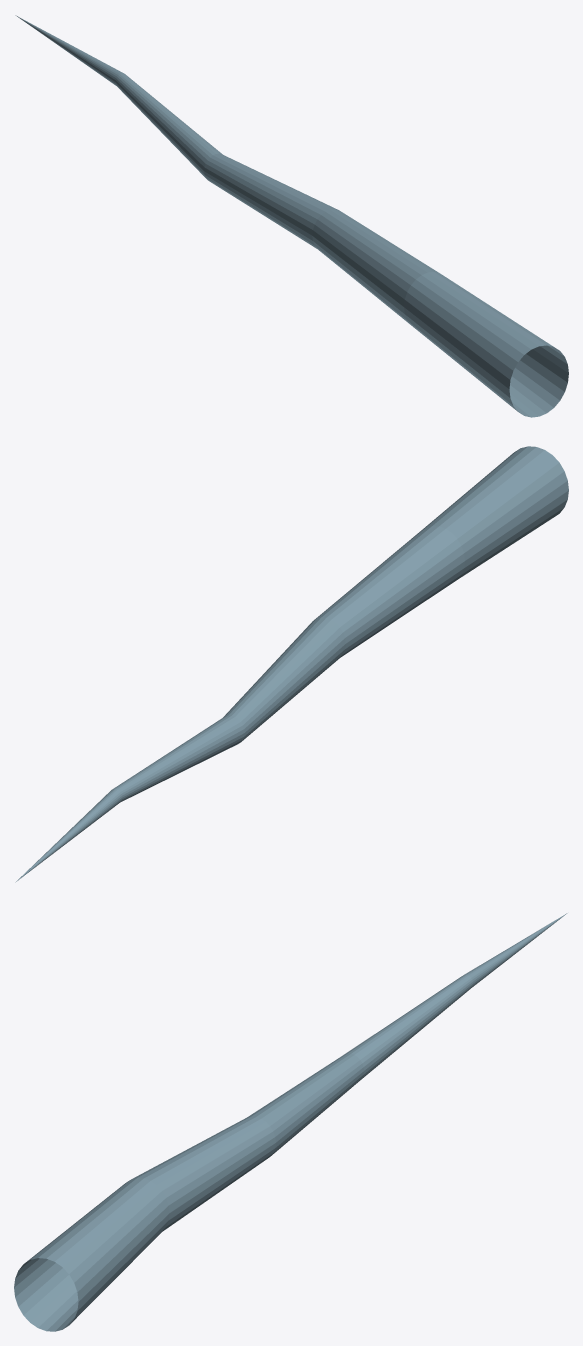
File: ICELANCE.OBJ
The picture shows the model from 3 angles, top to bottom: view 1: azimuth 30°, elevation 25°; view 2: azimuth 150°, elevation 25°; view 3: azimuth 330°, elevation 25°; orthographic projection. The views are drawn at different scales.
Parts seen in each view (by area): view 1: ICELANCE; view 2: ICELANCE; view 3: ICELANCE.
Part boxes in pixels (bbox=[...]): ICELANCE: bbox=[15, 15, 568, 417]; ICELANCE: bbox=[15, 446, 568, 882]; ICELANCE: bbox=[14, 913, 567, 1331].
Size of the model in its own units: 0.089 by 0.095 by 1.26.
